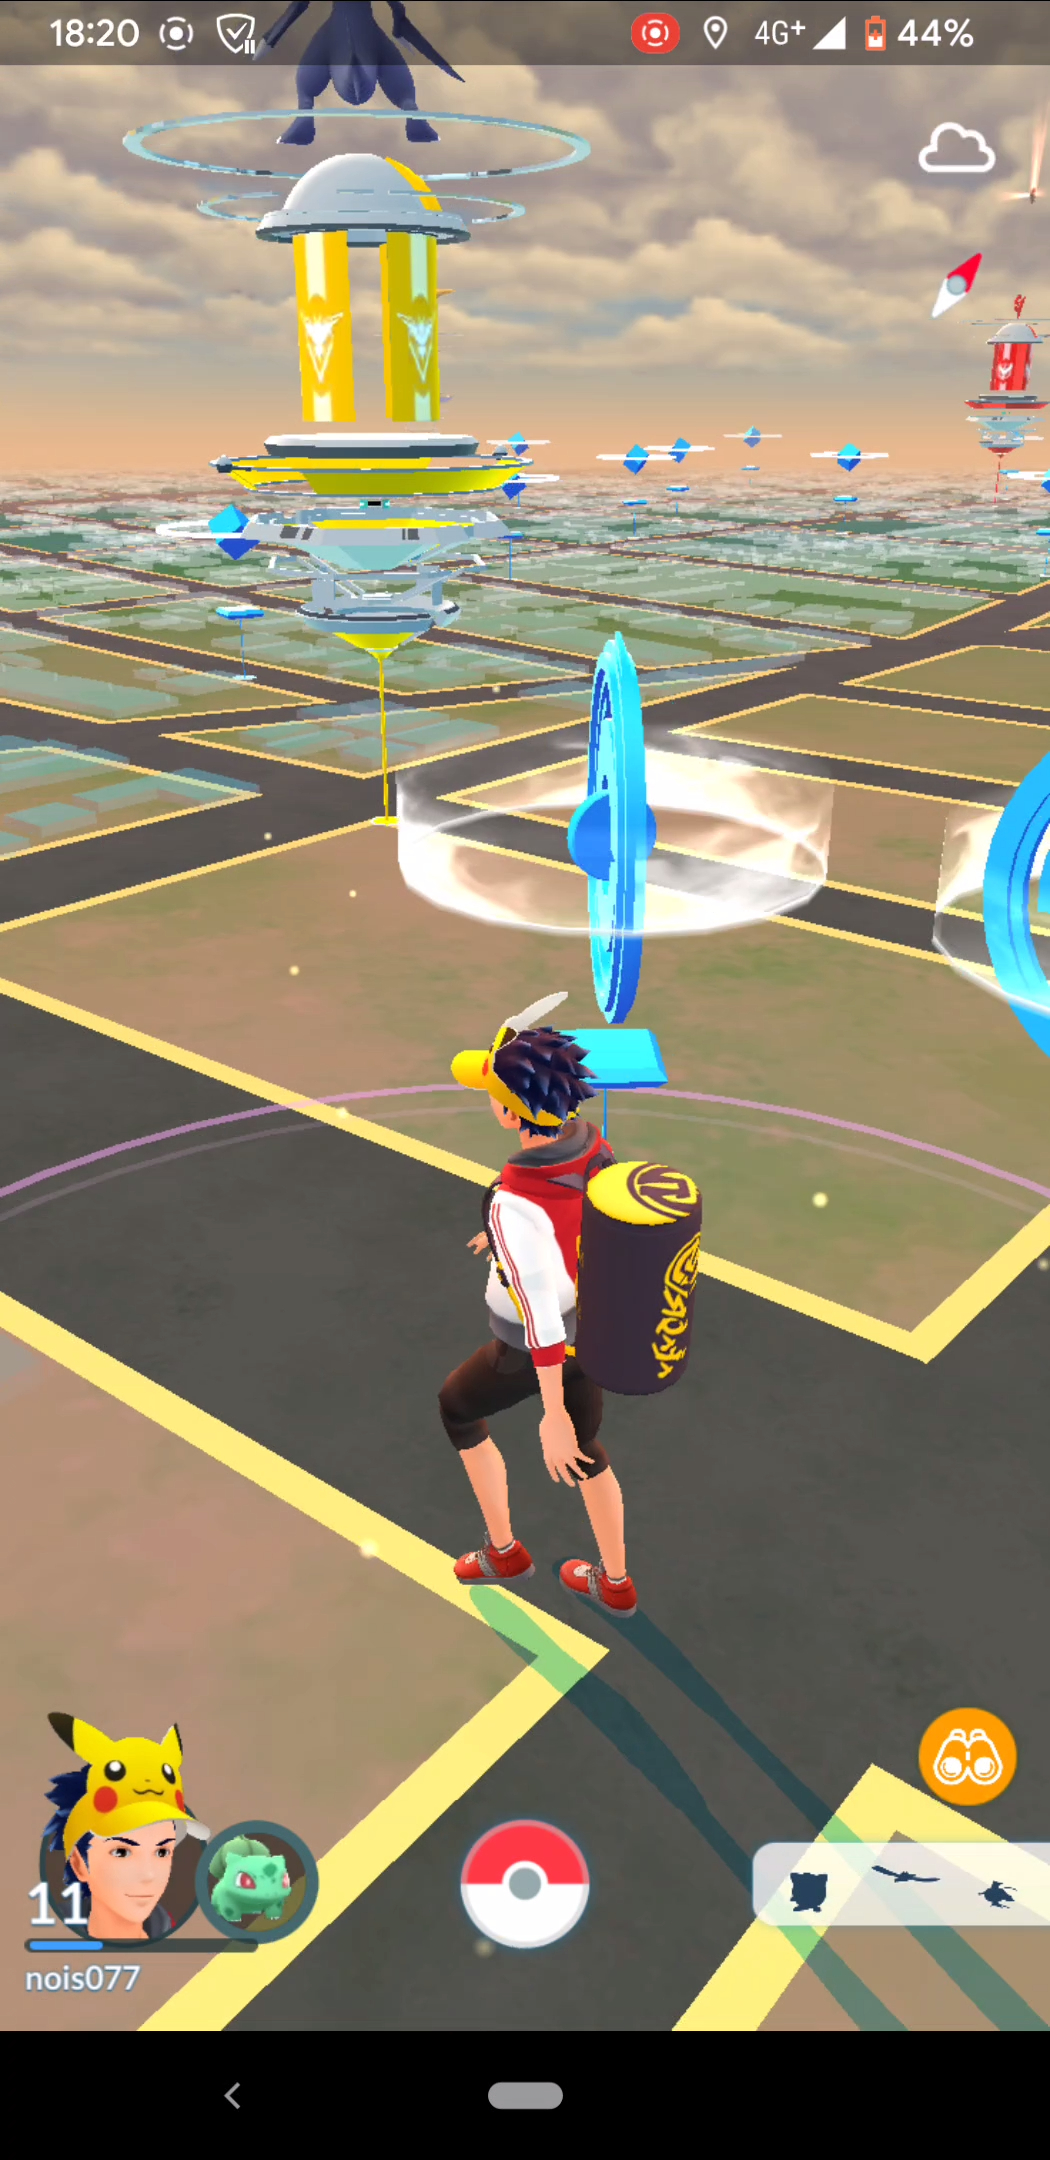pokestop: (554, 627, 675, 1030)
